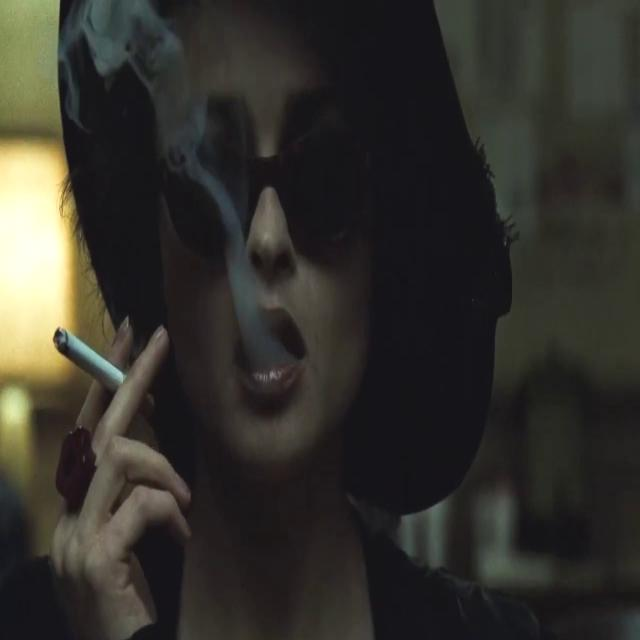Smooking: (47, 308, 122, 402)
